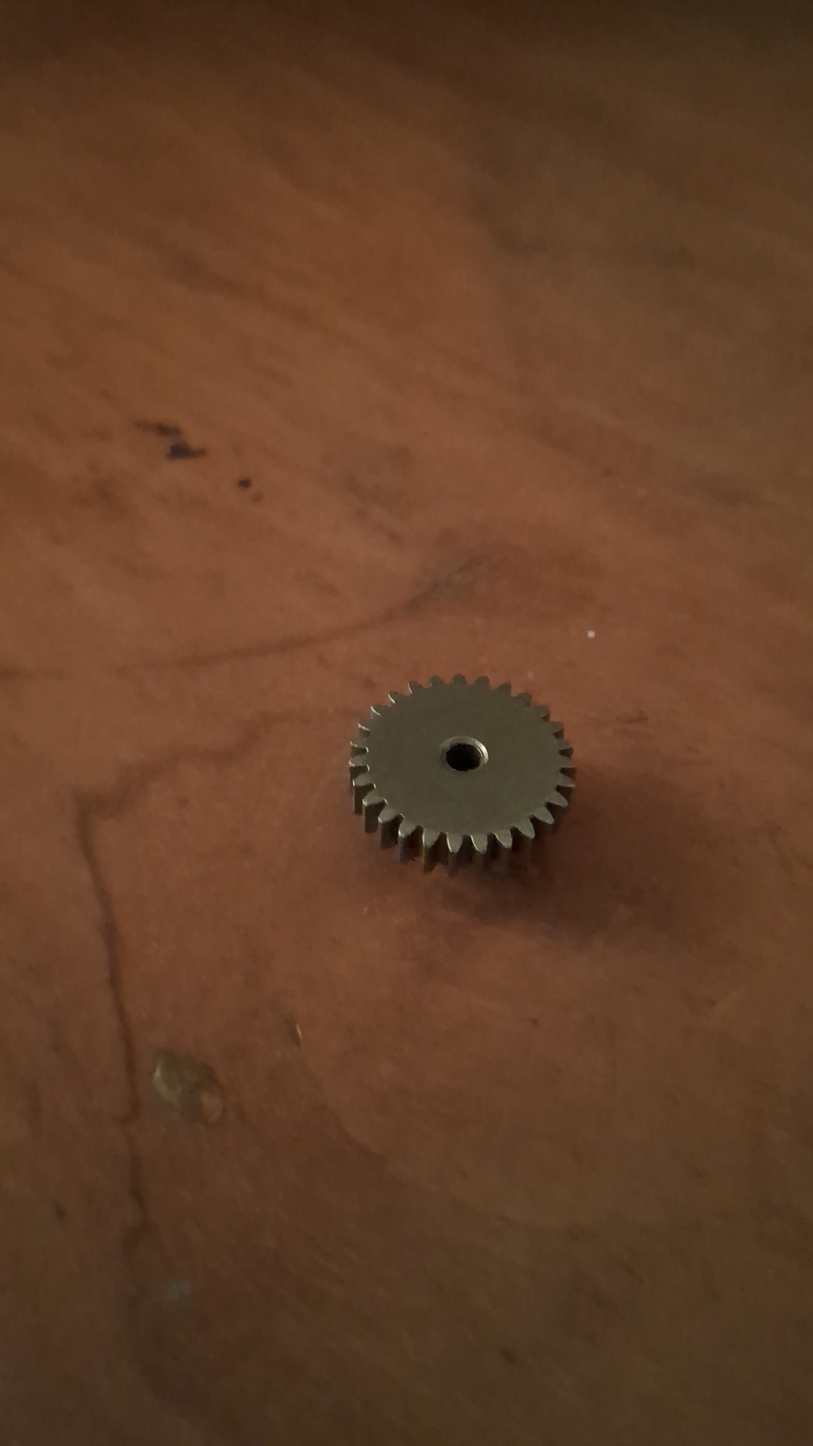spur gear: (350, 675, 573, 869)
